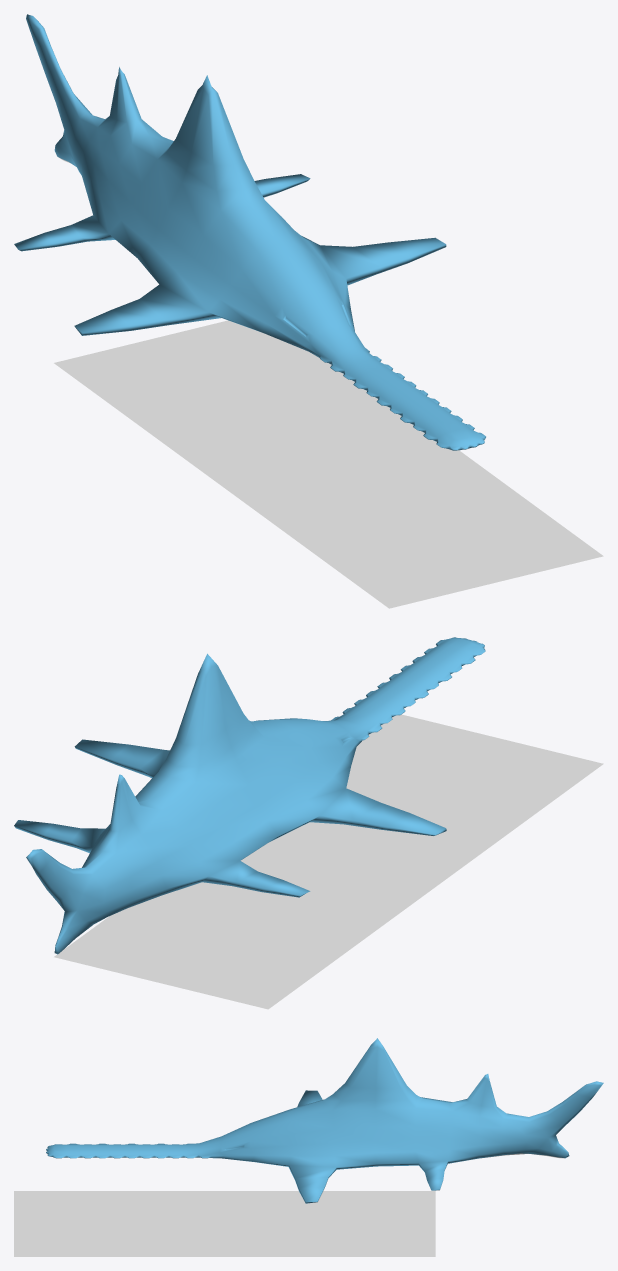
Rendered from ExtracaoMadeira.fbx.
3 renders of one model, top to bottom at view 1: azimuth 30°, elevation 25°; view 2: azimuth 150°, elevation 25°; view 3: azimuth 270°, elevation 25°, orthographic. The views are drawn at different scales.
Visible parts, largest first — view 1: Cube; view 2: Cube; view 3: Cube.
Boxes of the visible parts, box(x1,y1,x2,y2) form: Cube: box(14, 14, 603, 608); Cube: box(14, 637, 603, 1009); Cube: box(14, 1038, 603, 1256).
Bounding box in the file's own units: 203 × 158 × 454.
